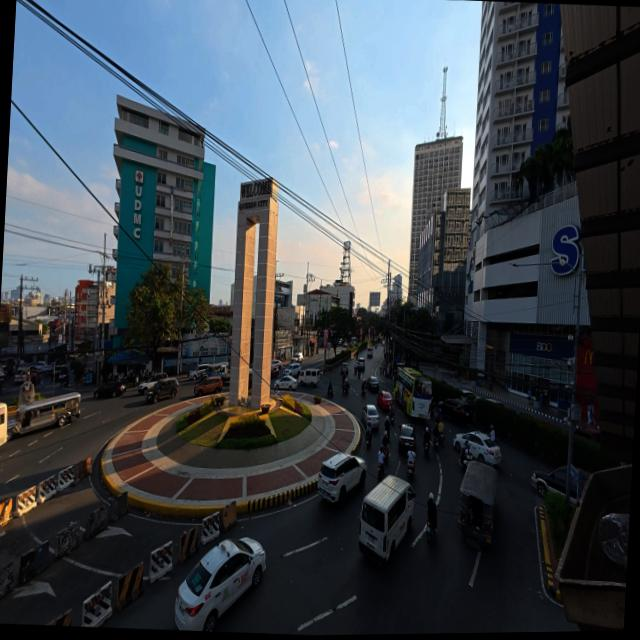Jeepneys: (8, 393, 81, 439), (459, 461, 497, 544)
bus: (394, 367, 432, 419), (0, 403, 7, 446)
car: (175, 538, 265, 631), (318, 452, 366, 502), (454, 431, 501, 465), (531, 466, 566, 497), (439, 398, 472, 424), (145, 378, 178, 403), (193, 375, 223, 398), (138, 373, 168, 394), (94, 381, 125, 398), (399, 425, 416, 454), (361, 405, 380, 430), (274, 374, 298, 392), (574, 426, 600, 442), (189, 365, 212, 381), (377, 390, 393, 410), (367, 375, 380, 394), (33, 361, 53, 373), (14, 369, 30, 384), (485, 398, 506, 408), (287, 364, 300, 379), (461, 390, 478, 400), (33, 361, 46, 370), (271, 366, 280, 378), (358, 358, 365, 371), (271, 360, 282, 368), (341, 363, 348, 375), (295, 353, 303, 363), (367, 348, 373, 359), (283, 368, 291, 376), (291, 357, 301, 363), (381, 339, 385, 345)
motorcycle: (426, 519, 436, 542), (460, 453, 472, 471), (423, 442, 430, 459), (433, 435, 439, 453), (378, 463, 384, 481), (408, 463, 414, 480), (366, 433, 372, 449), (384, 446, 389, 463), (390, 408, 395, 424), (439, 431, 444, 446), (343, 384, 349, 395), (327, 389, 333, 398), (361, 387, 366, 396)
vans: (359, 476, 414, 562), (299, 368, 319, 386)
